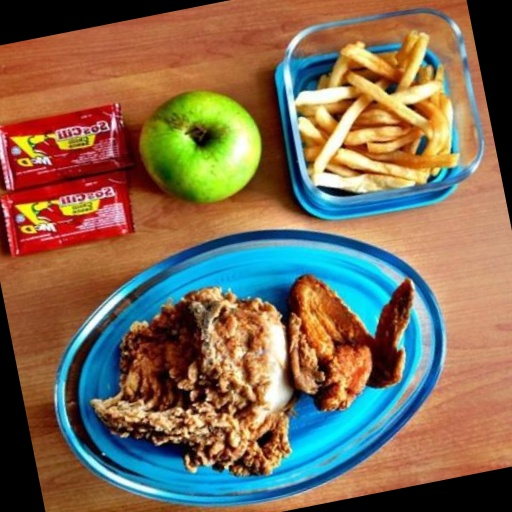fruit: (117, 51, 401, 281)
